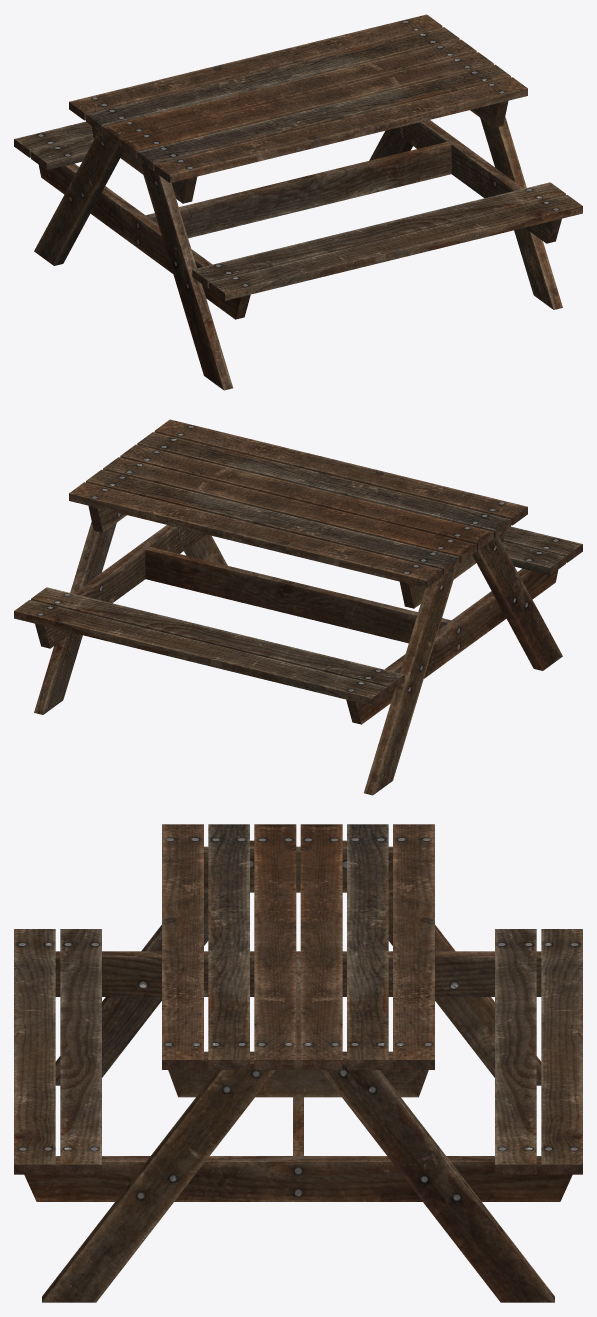
Rendered from picnic78.glb.
3 renders of one model, top to bottom at view 1: azimuth 30°, elevation 25°; view 2: azimuth 150°, elevation 25°; view 3: azimuth 270°, elevation 25°, orthographic. The views are drawn at different scales.
Visible parts, largest first — view 1: PicnicTable; view 2: PicnicTable; view 3: PicnicTable.
Boxes of the visible parts, x1=… form: PicnicTable: x1=14, y1=14, x2=582, y2=390; PicnicTable: x1=14, y1=419, x2=582, y2=795; PicnicTable: x1=14, y1=824, x2=582, y2=1302.
Size of the model in its own units: 1.57 by 0.7733 by 1.6.
1 material, 1 textured.
